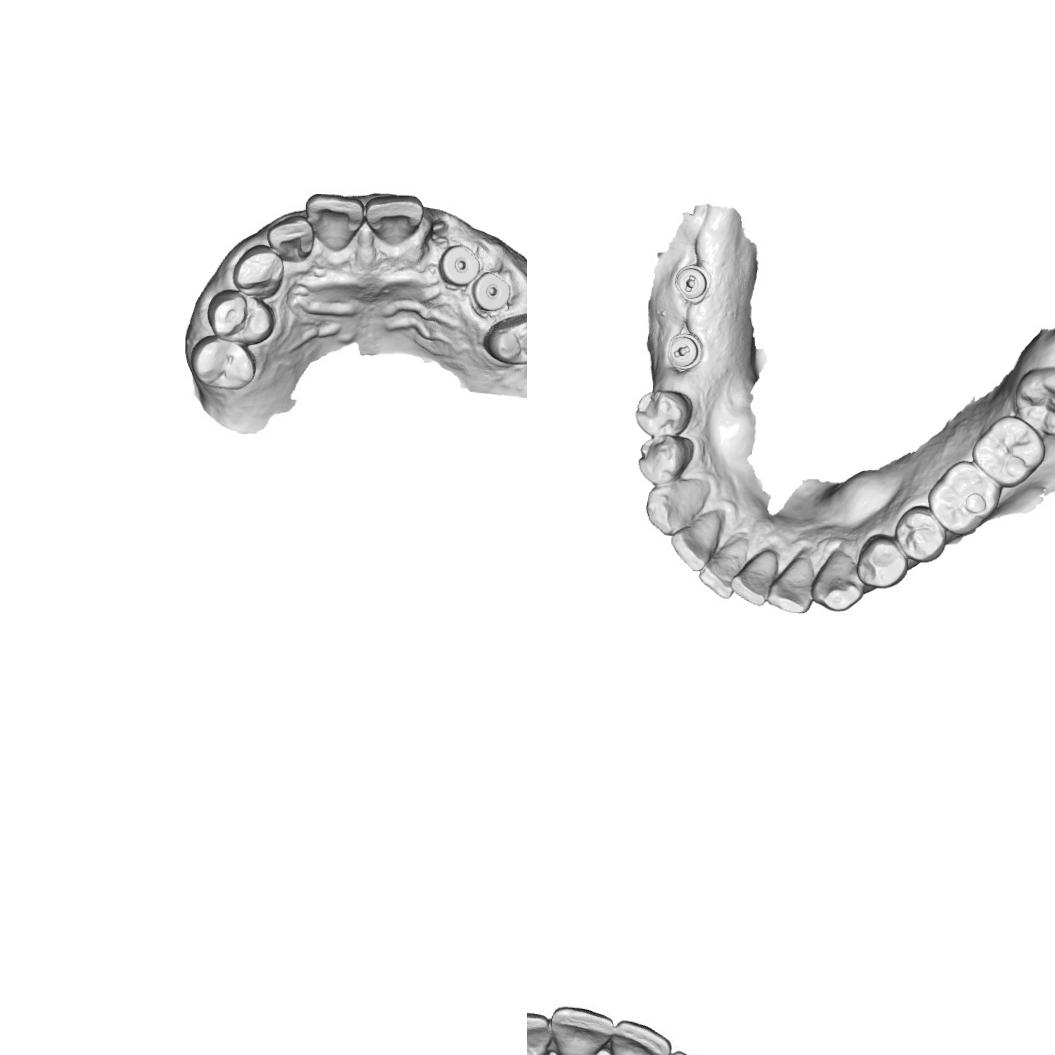canine: (644, 476, 710, 536), (810, 548, 863, 612), (232, 242, 286, 299)
implant: (436, 240, 484, 292), (472, 267, 512, 316)
implant_minus: (673, 262, 712, 306), (664, 332, 704, 374)
incisor: (303, 190, 366, 252), (363, 190, 426, 250), (549, 1004, 617, 1055), (670, 510, 724, 573), (768, 553, 814, 614), (730, 552, 776, 608), (266, 214, 317, 264), (698, 540, 740, 600), (610, 1020, 668, 1055), (527, 1010, 558, 1055)
molar: (927, 458, 1002, 537), (970, 414, 1046, 488), (1012, 364, 1055, 438)
premolar: (206, 287, 278, 346), (188, 334, 262, 390), (636, 432, 695, 486), (632, 388, 694, 439), (855, 532, 909, 588), (894, 505, 946, 563), (480, 308, 527, 368)
